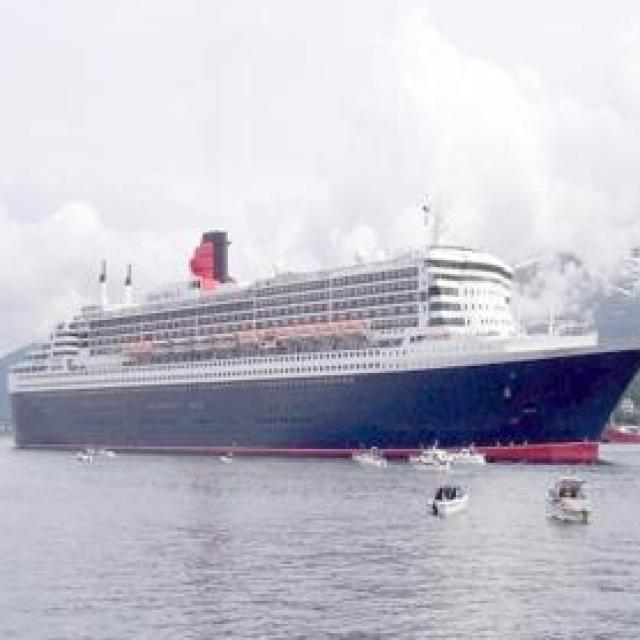houseboat: (546, 468, 597, 520), (428, 468, 466, 517), (440, 434, 486, 472), (403, 434, 448, 472), (347, 438, 386, 471), (70, 444, 124, 466)
passenger ship: (2, 202, 640, 460)
